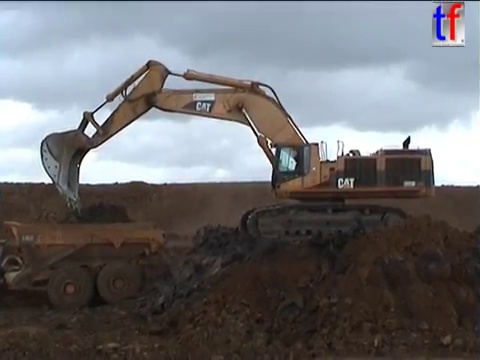excavator: (37, 57, 438, 247)
truck: (1, 216, 168, 311)
